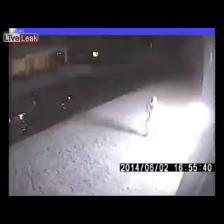person: (146, 96, 158, 138)
